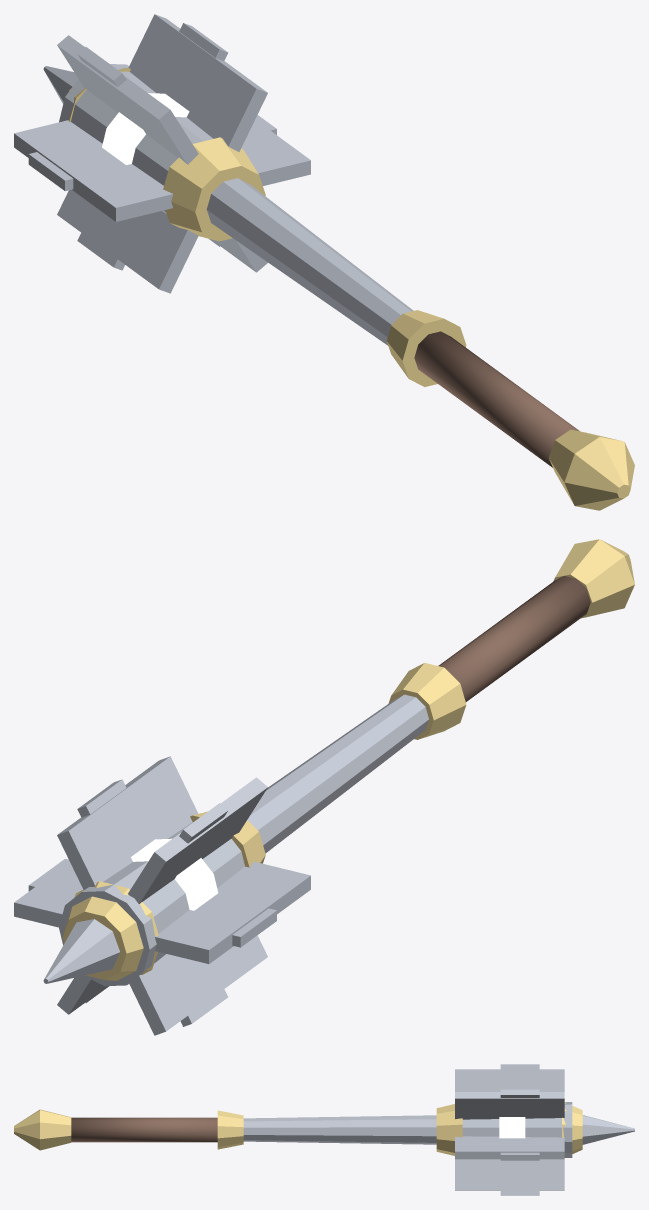
File: Guardian_HeavyMace.fbx
3 renders of one model, top to bottom at view 1: azimuth 30°, elevation 25°; view 2: azimuth 150°, elevation 25°; view 3: azimuth 270°, elevation 25°, orthographic. The views are drawn at different scales.
Parts seen in each view (by area): view 1: GuardianMace_Head, GuardianMace_GoldTrim, GuardianMace_Grip, GuardianMace_RuneDetail; view 2: GuardianMace_Head, GuardianMace_GoldTrim, GuardianMace_Grip, GuardianMace_RuneDetail; view 3: GuardianMace_Head, GuardianMace_GoldTrim, GuardianMace_Grip, GuardianMace_RuneDetail.
Part boxes in pixels (bbox=[...]): GuardianMace_Head: bbox=[14, 14, 413, 345]; GuardianMace_GoldTrim: bbox=[68, 68, 634, 510]; GuardianMace_Grip: bbox=[414, 331, 579, 467]; GuardianMace_RuneDetail: bbox=[102, 93, 189, 164]; GuardianMace_Head: bbox=[14, 694, 428, 1035]; GuardianMace_GoldTrim: bbox=[62, 539, 634, 980]; GuardianMace_Grip: bbox=[438, 576, 590, 701]; GuardianMace_RuneDetail: bbox=[131, 838, 218, 910]; GuardianMace_Head: bbox=[243, 1064, 634, 1195]; GuardianMace_GoldTrim: bbox=[14, 1102, 582, 1155]; GuardianMace_Grip: bbox=[71, 1117, 217, 1142]; GuardianMace_RuneDetail: bbox=[499, 1117, 525, 1138].
Size of the model in its own units: 0.252 by 0.2242 by 1.19.
